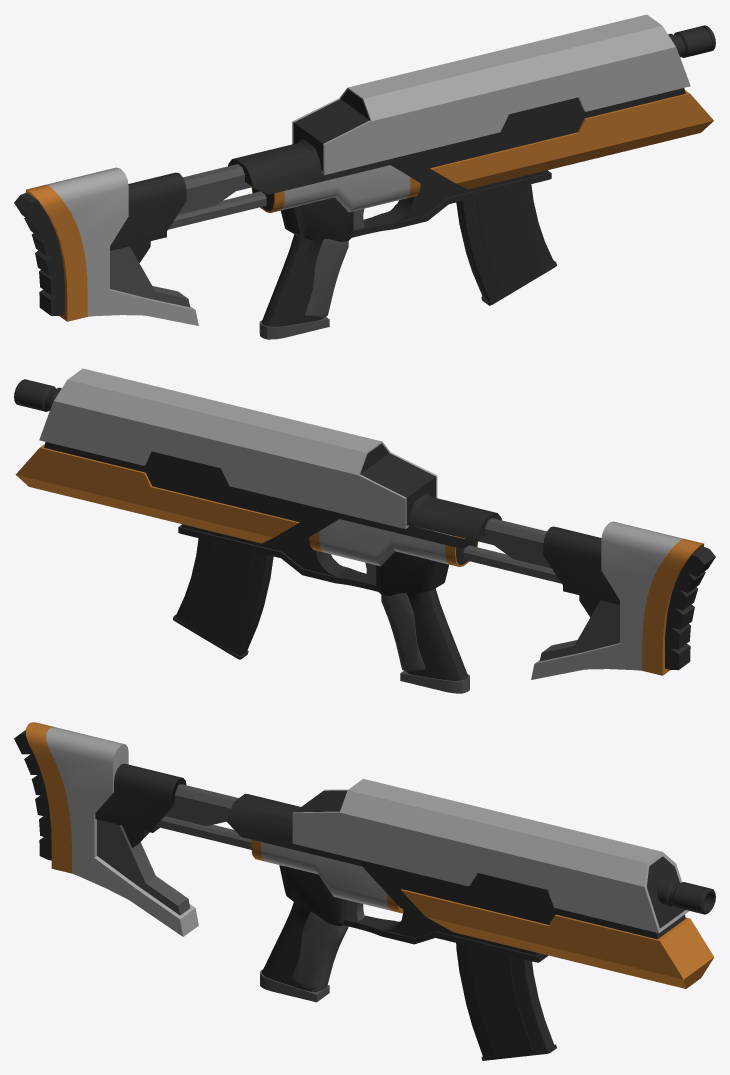
Rendered from weapon_smg.glb.
3 views of the same model, one above another, from view 1: azimuth 30°, elevation 25°; view 2: azimuth 150°, elevation 25°; view 3: azimuth 330°, elevation 25° (orthographic).
Parts seen in each view (by area): view 1: SMG_2, Magazine_SMG_2; view 2: SMG_2, Magazine_SMG_2; view 3: SMG_2, Magazine_SMG_2.
Boxes of the visible parts, box(x1,y1,x2,y2) form: SMG_2: box(26, 14, 713, 339); Magazine_SMG_2: box(14, 25, 715, 326); SMG_2: box(15, 368, 703, 693); Magazine_SMG_2: box(14, 379, 715, 680); SMG_2: box(25, 722, 714, 1002); Magazine_SMG_2: box(14, 730, 715, 1060).
Bounding box in the file's own units: 2.2 × 0.7377 × 0.176.
